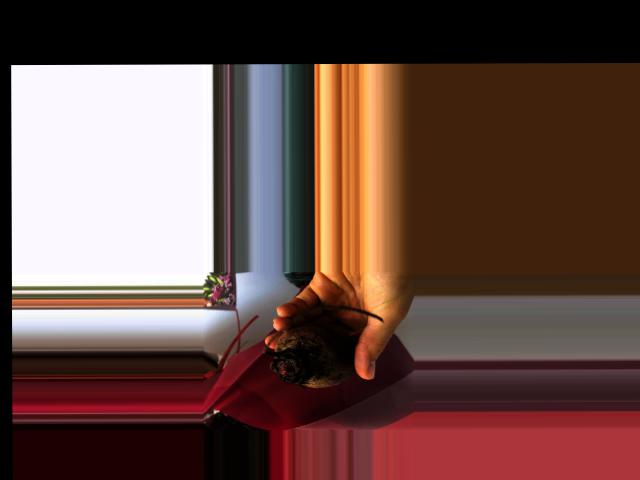beet: (261, 305, 383, 388)
